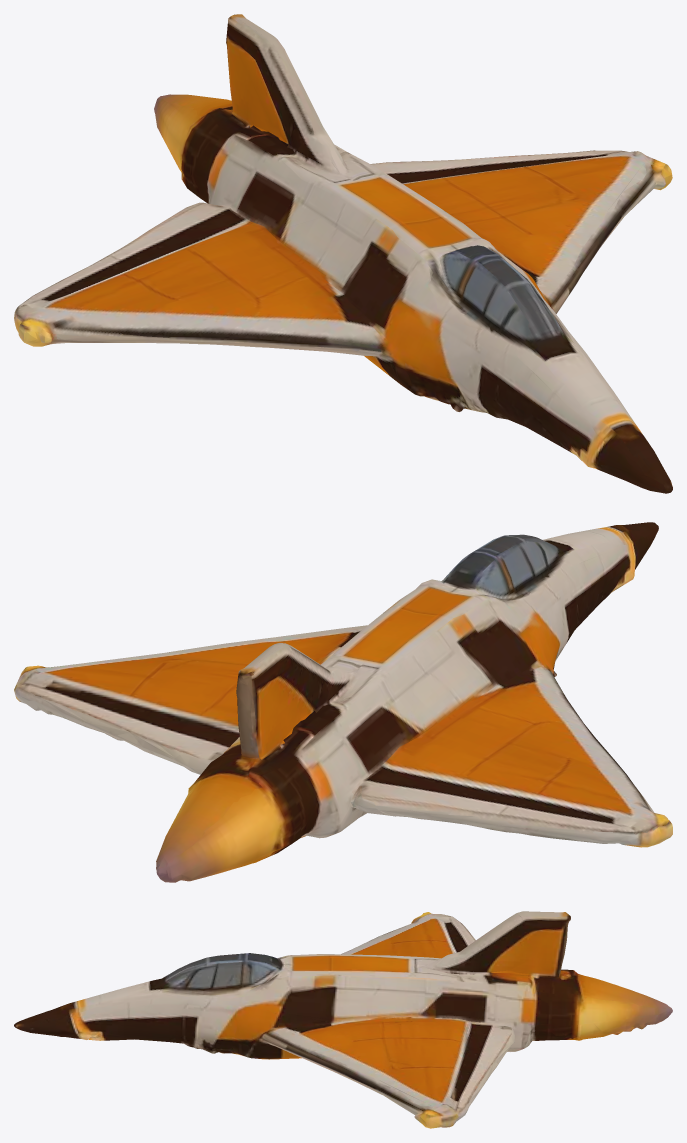
File: viper.glb
3 views of the same model, one above another, from view 1: azimuth 30°, elevation 25°; view 2: azimuth 150°, elevation 25°; view 3: azimuth 270°, elevation 25° (orthographic). The views are drawn at different scales.
Visible parts, largest first — view 1: f7644b3d-9380-41f7-b37a-51001c5d077f_texturing.obj; view 2: f7644b3d-9380-41f7-b37a-51001c5d077f_texturing.obj; view 3: f7644b3d-9380-41f7-b37a-51001c5d077f_texturing.obj.
Boxes of the visible parts, <box> form: f7644b3d-9380-41f7-b37a-51001c5d077f_texturing.obj: <box>14,14,672,493</box>; f7644b3d-9380-41f7-b37a-51001c5d077f_texturing.obj: <box>14,522,672,882</box>; f7644b3d-9380-41f7-b37a-51001c5d077f_texturing.obj: <box>14,911,672,1128</box>.
Size of the model in its own units: 1.48 by 0.4308 by 1.99.
1 material, 1 textured.
